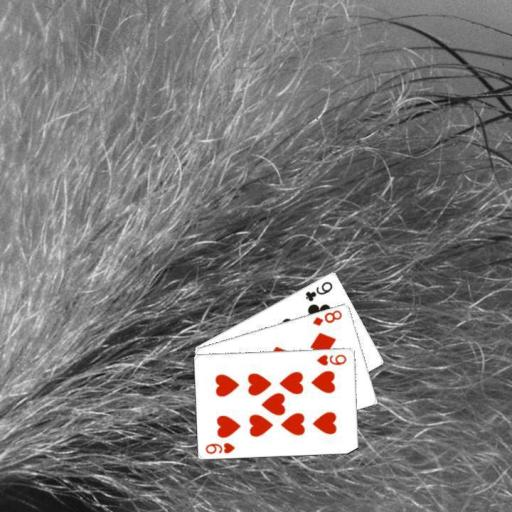card-corner: (302, 278, 334, 303), (310, 307, 344, 327), (314, 351, 348, 366), (202, 440, 236, 455)
